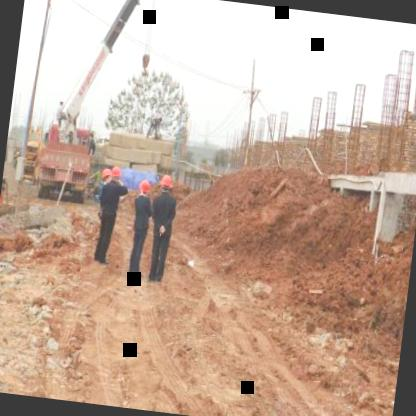helmet: (156, 171, 173, 194), (137, 175, 152, 198), (98, 166, 112, 190), (109, 162, 123, 185)
